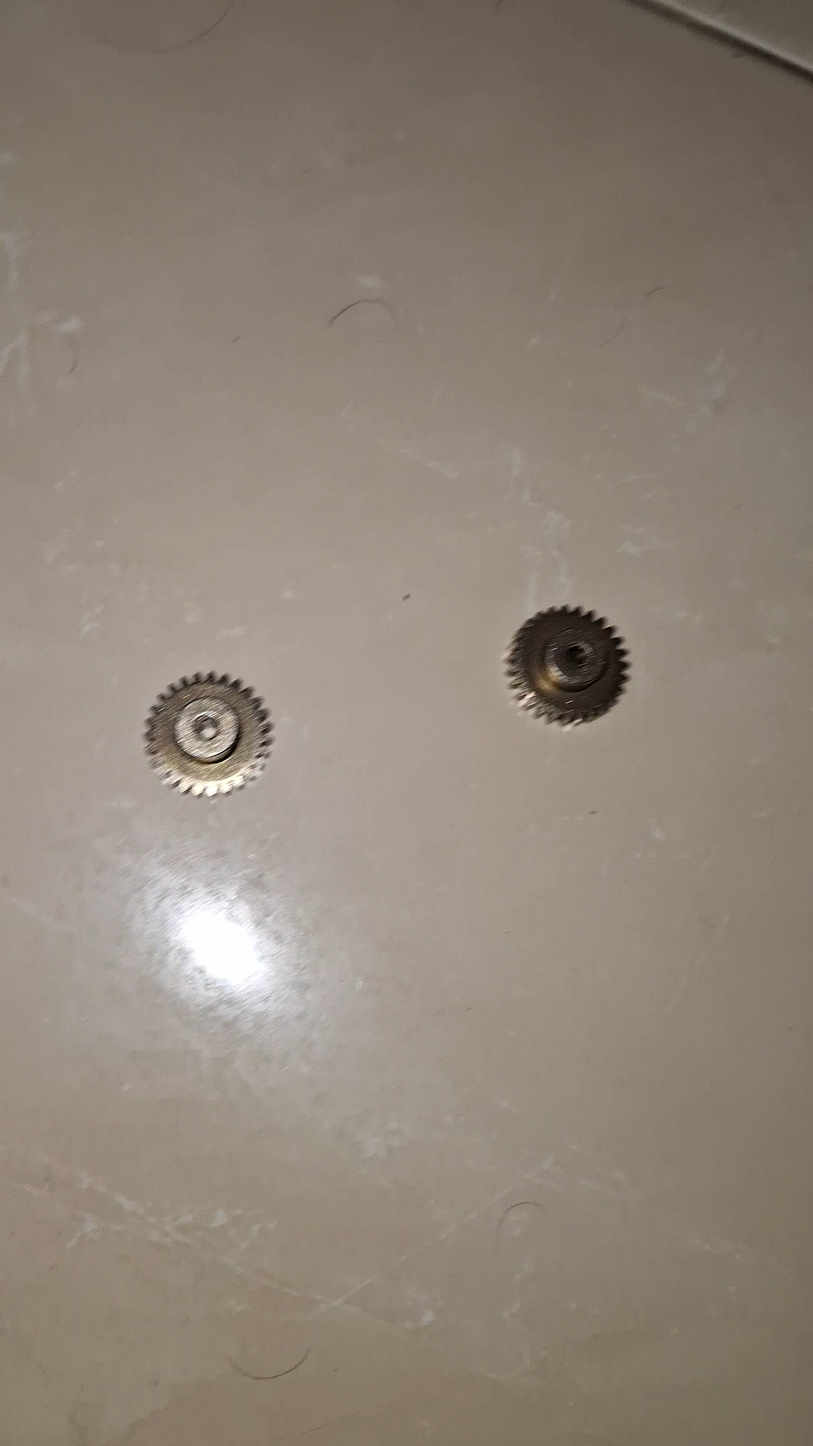spur gear: (145, 672, 271, 796), (505, 607, 628, 724)
